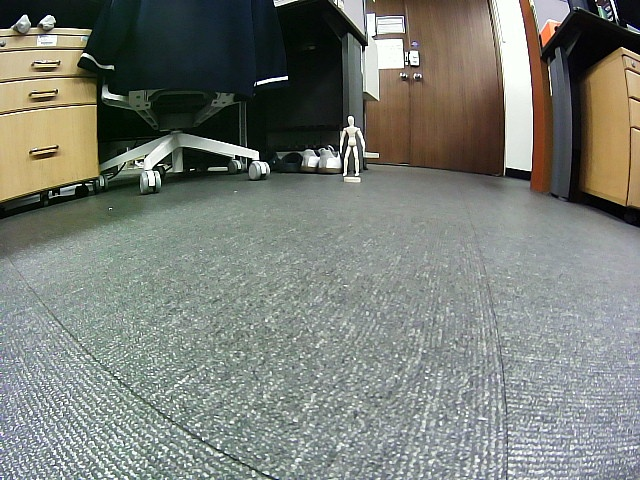person: (341, 116, 364, 176)
